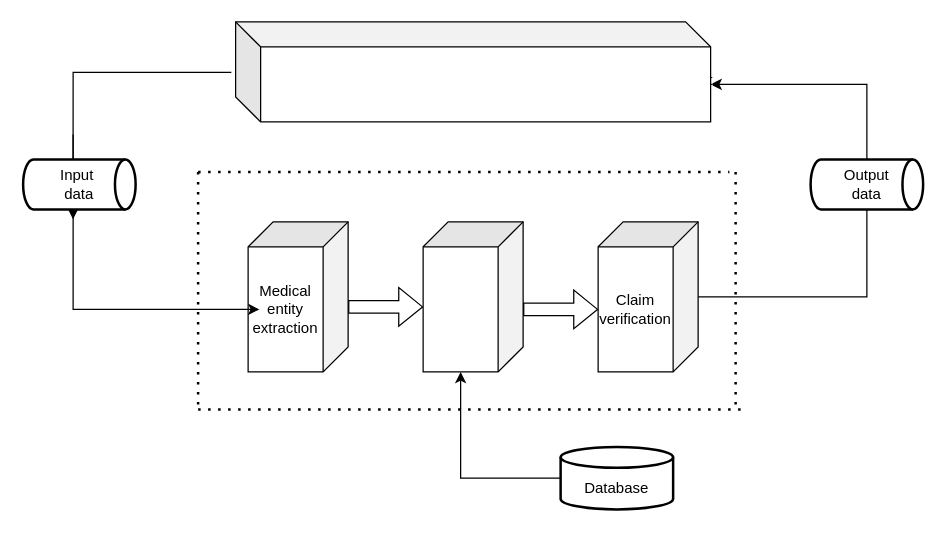
The diagram is 945 pixels wide and 533 high, and some of its shapes have lost their labels. The shapes that lost their labels are listed below. From the top down, each one's centre as x and y in pixels, then its label:
(472,71): Application interface
(472,296): Evidence retrieval
